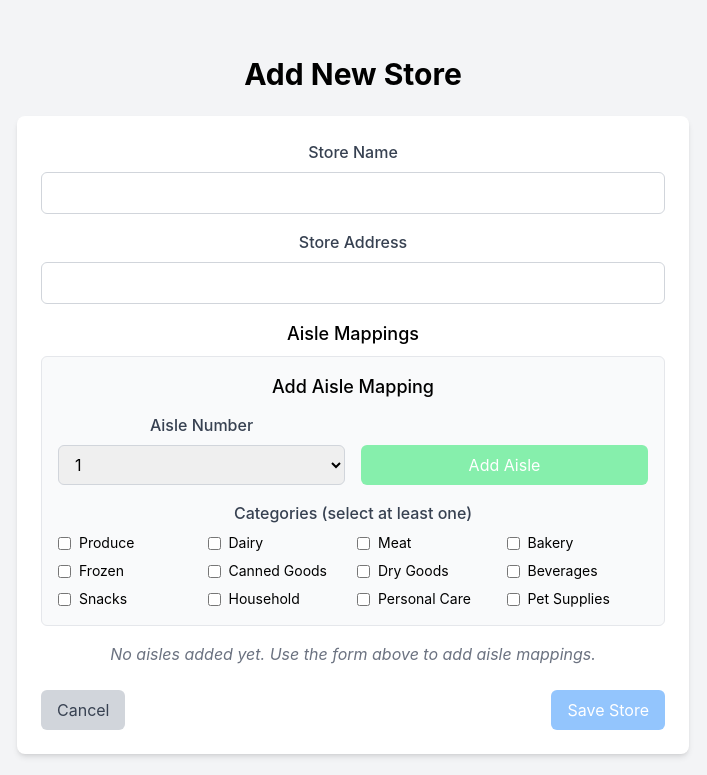
StoreOnboardPage › allows adding an aisle with categories
Expected: the dropdown labelled "Aisle Number" is shown, top-left (58, 445), bottom-right (345, 485)
Click the checkbox labelled "Produce": (64, 543) top-left (58, 536), bottom-right (71, 550)
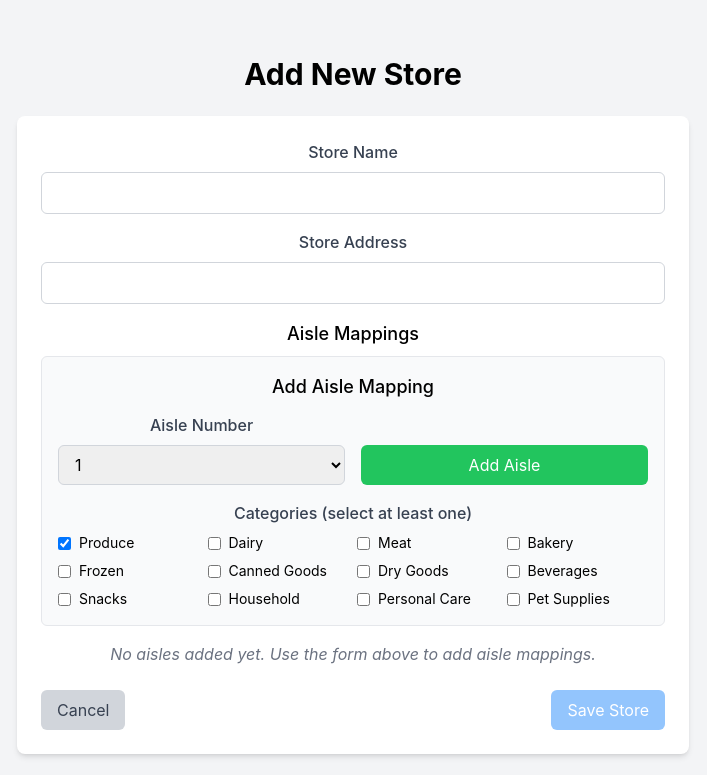
Click the checkbox labelled "Dairy": (214, 543) top-left (208, 536), bottom-right (220, 550)
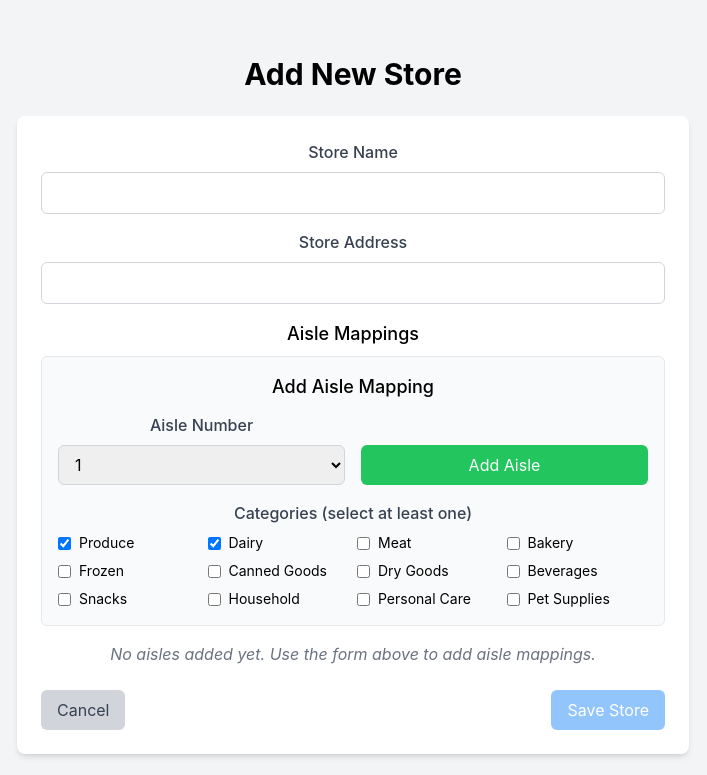
Note: Add the aisle
Click the button "Add Aisle": (504, 465) top-left (361, 445), bottom-right (648, 485)
(page scrolled)
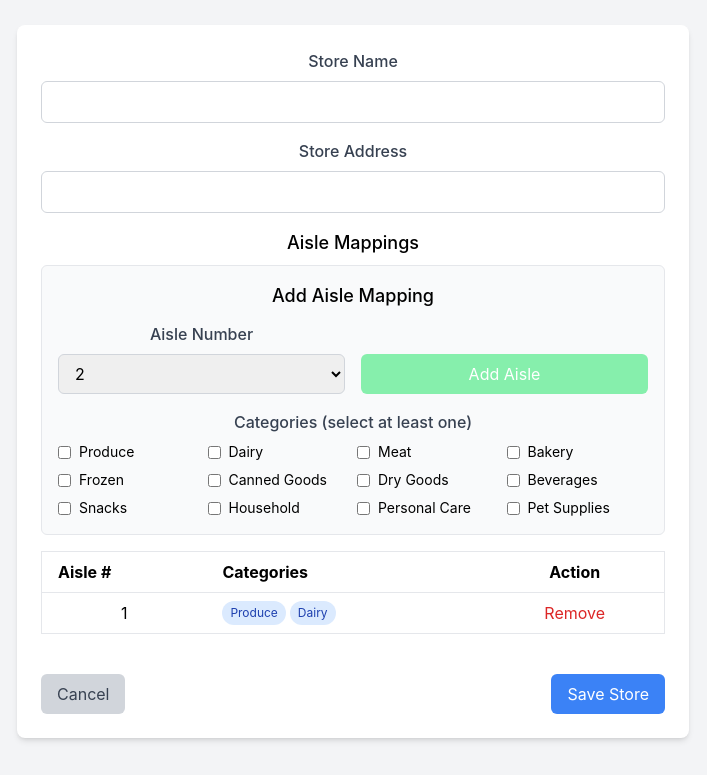
Now the text "1" is shown, box top-left (42, 592), bottom-right (206, 634)
Now the text "Produce" is shown, box top-left (222, 601), bottom-right (286, 625)
Now the text "Dairy" is shown, box top-left (290, 601), bottom-right (336, 625)
